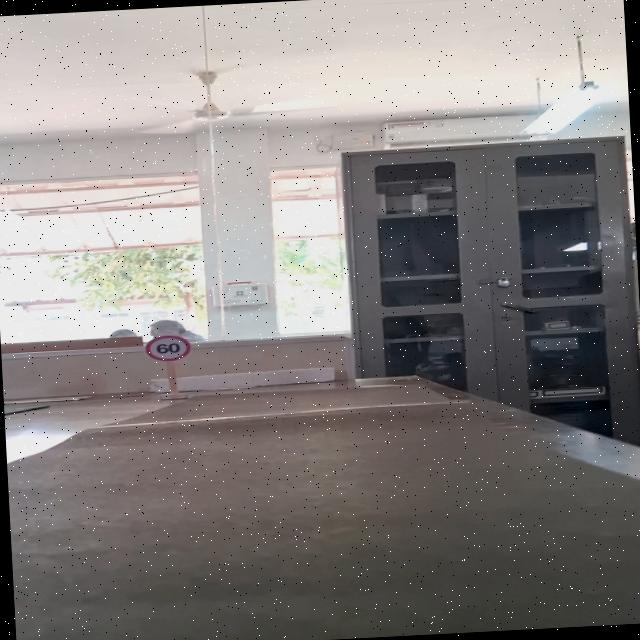Speed60: (144, 334, 192, 364)
